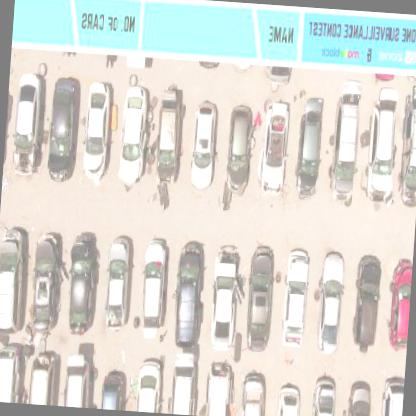car: (366, 87, 400, 208), (330, 80, 362, 198), (65, 232, 100, 336), (172, 240, 206, 347), (28, 232, 64, 333), (46, 76, 80, 182), (243, 245, 275, 354), (293, 92, 325, 200), (208, 244, 238, 351), (349, 252, 382, 347), (116, 84, 147, 184), (313, 253, 344, 353), (9, 72, 39, 174), (154, 84, 184, 186), (80, 81, 110, 182), (280, 249, 310, 346), (139, 238, 168, 338), (0, 227, 26, 335), (258, 100, 288, 192), (103, 236, 132, 330), (223, 102, 252, 194), (189, 101, 218, 193), (386, 255, 412, 350), (398, 81, 415, 209), (168, 352, 198, 414), (130, 357, 161, 412), (203, 361, 234, 415), (60, 353, 90, 407), (27, 351, 57, 405), (237, 370, 269, 415), (0, 344, 21, 403), (308, 375, 336, 415), (379, 374, 405, 415), (345, 380, 373, 415), (273, 382, 302, 415), (99, 372, 123, 409)
